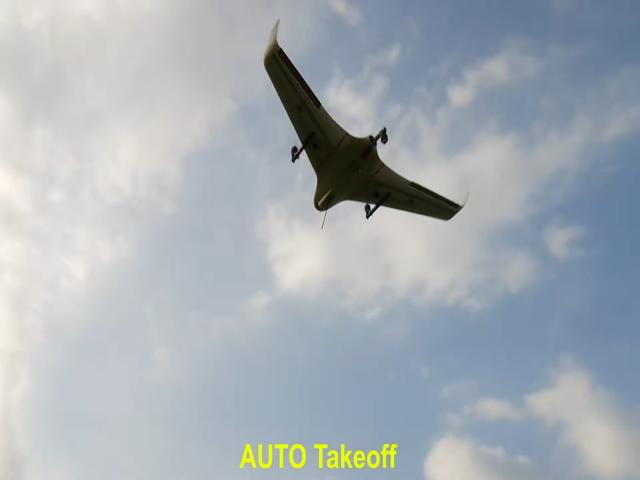plane: (263, 18, 467, 222)
